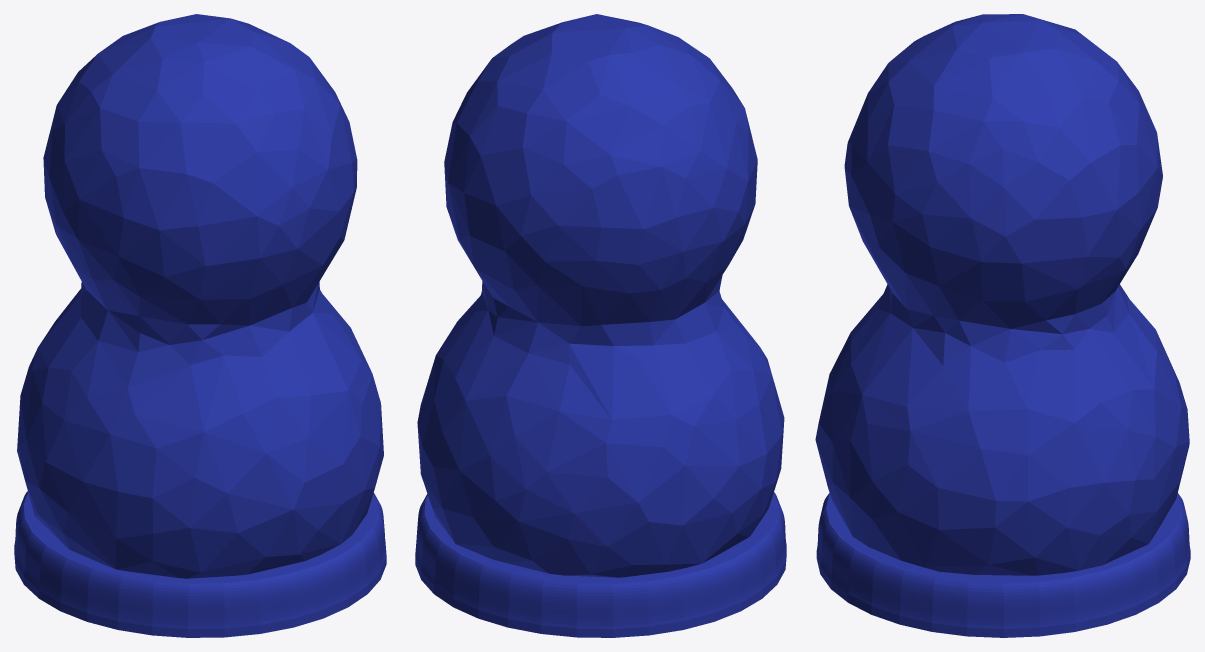
The model's file is Player's team Peanut.fbx.
The picture shows the model from 3 angles, left to right: view 1: azimuth 30°, elevation 25°; view 2: azimuth 150°, elevation 25°; view 3: azimuth 270°, elevation 25°; orthographic projection.
Visible parts, largest first — view 1: Sphere; view 2: Sphere; view 3: Sphere.
Boxes of the visible parts, x1,y1,x2,y2 form: Sphere: (14, 14, 386, 637); Sphere: (415, 14, 786, 637); Sphere: (815, 14, 1190, 637).
Bounding box in the file's own units: 389 × 387 × 605.
